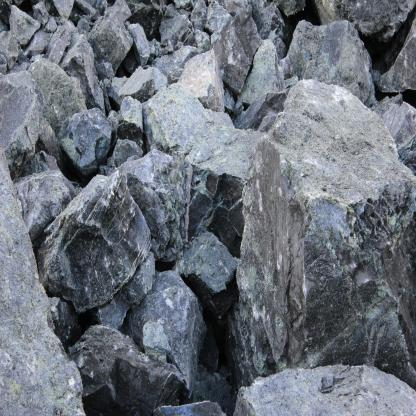stone: (226, 80, 416, 393), (0, 68, 82, 416), (144, 79, 269, 257), (35, 170, 152, 314), (66, 322, 191, 416), (129, 270, 209, 394), (234, 367, 416, 416), (283, 21, 377, 111), (172, 227, 239, 326), (96, 251, 156, 330), (58, 107, 118, 184), (210, 6, 263, 93), (85, 0, 136, 84), (376, 18, 416, 95), (180, 51, 225, 111), (116, 93, 145, 149), (9, 2, 43, 47), (119, 65, 157, 105), (40, 18, 71, 67), (203, 0, 232, 34)
